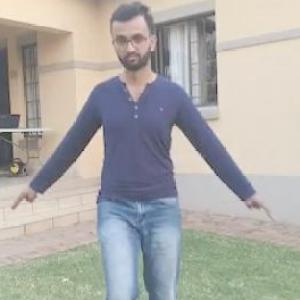land: (72, 49, 206, 278)
